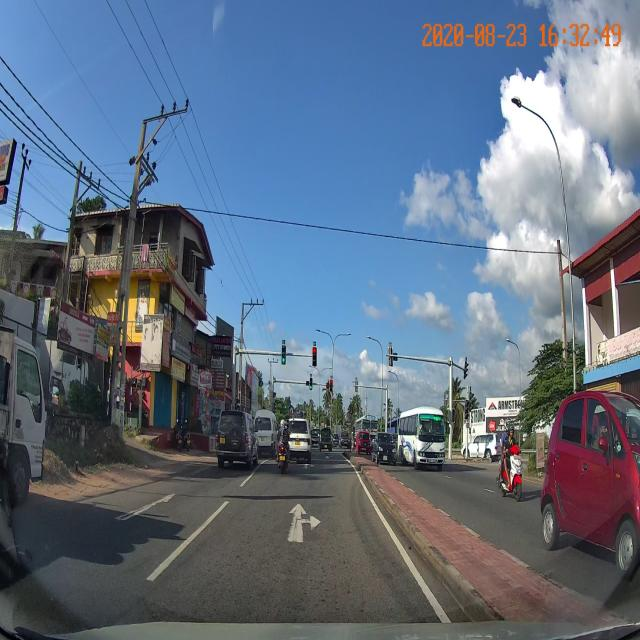forward_right: (151, 502, 427, 583), (154, 498, 417, 580), (153, 509, 424, 580)
